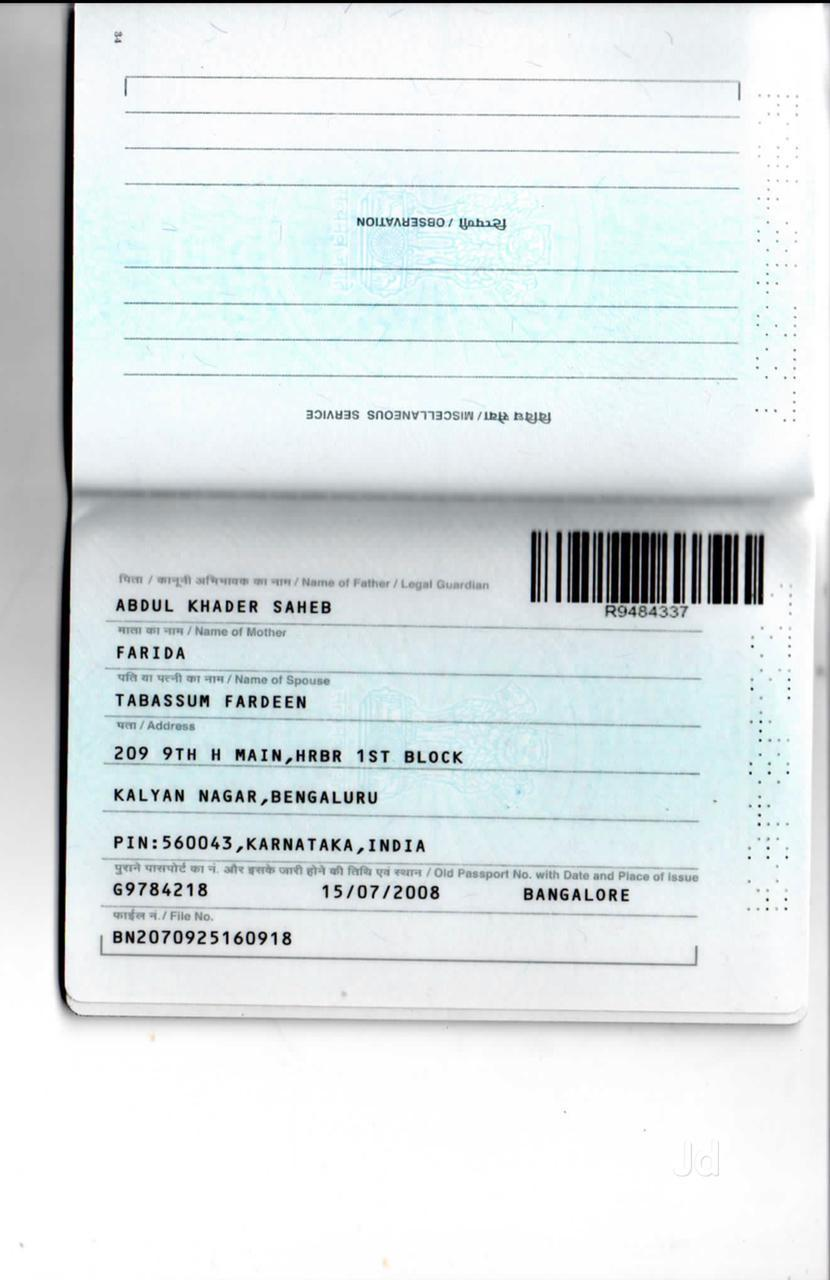File_no: (102, 926, 308, 956)
address: (103, 738, 470, 864)
father_name: (98, 585, 350, 632)
mother_name: (100, 630, 206, 668)
old_passport_details: (100, 868, 647, 917)
passport_no: (596, 596, 701, 624)
spouse_name: (107, 675, 323, 718)
